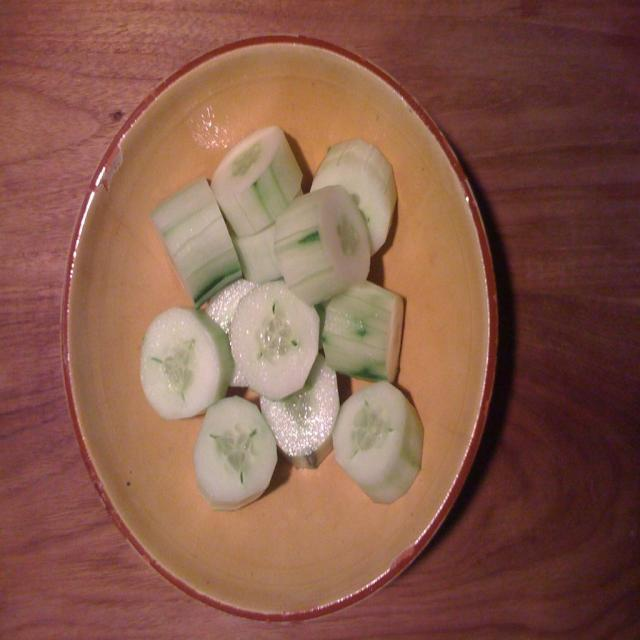ceramic plate: (66, 41, 497, 622)
